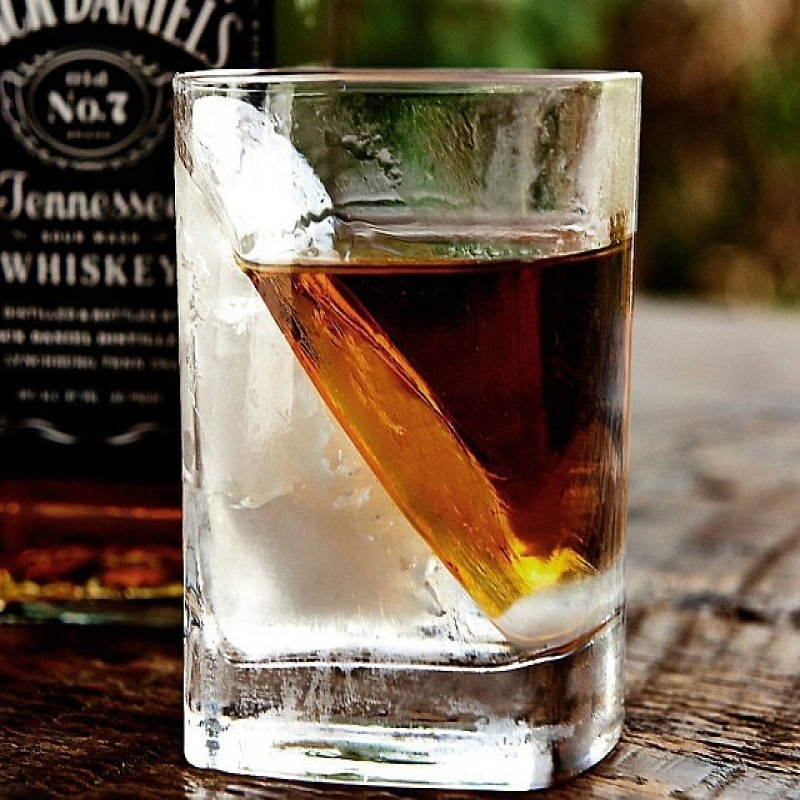whiskey: (167, 65, 638, 785)
